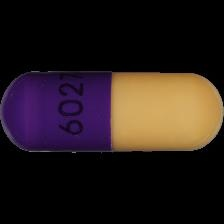63629-4353: (0, 0, 224, 224)
